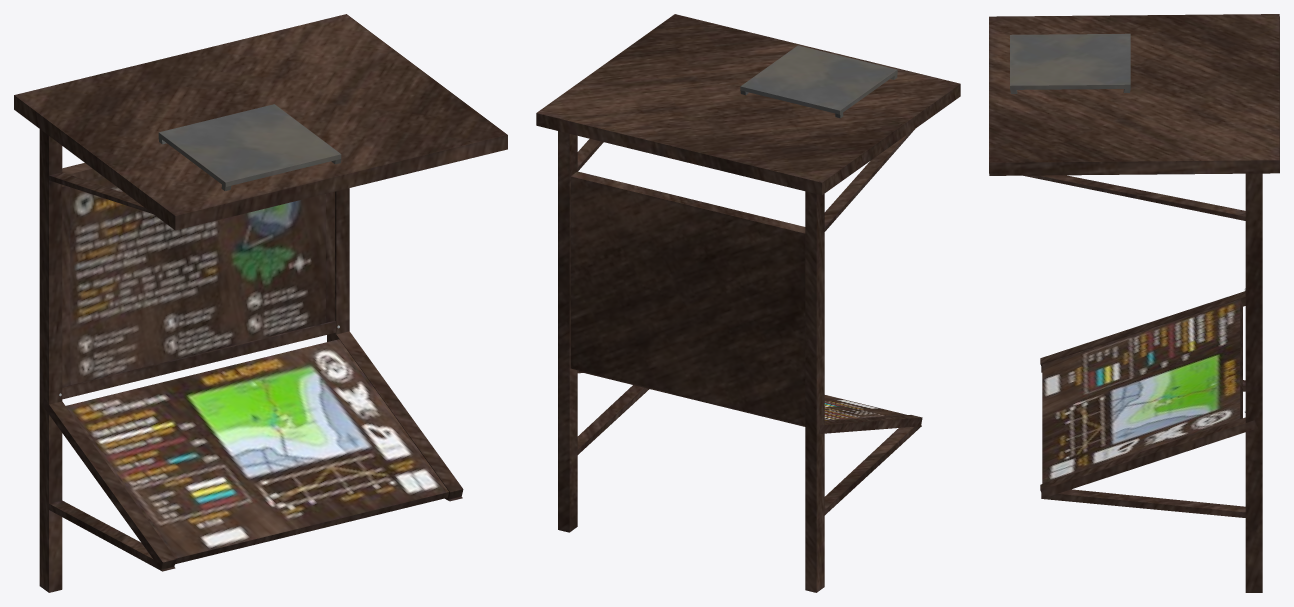
File: tablero-informativo.glb
The picture shows the model from 3 angles, left to right: view 1: azimuth 30°, elevation 25°; view 2: azimuth 150°, elevation 25°; view 3: azimuth 270°, elevation 25°; orthographic projection. The views are drawn at different scales.
Size of the model in its own units: 8.77 by 12.5 by 7.37.
11 materials, 11 textured.
